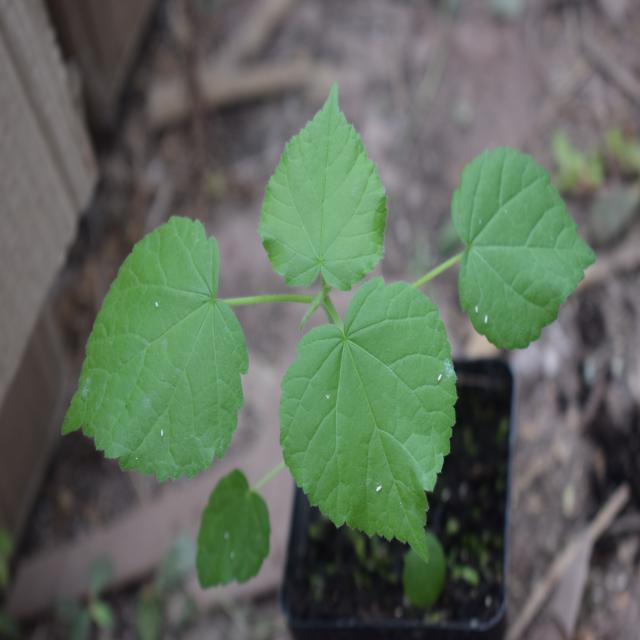abutilon theophrasti: (34, 79, 594, 525)
